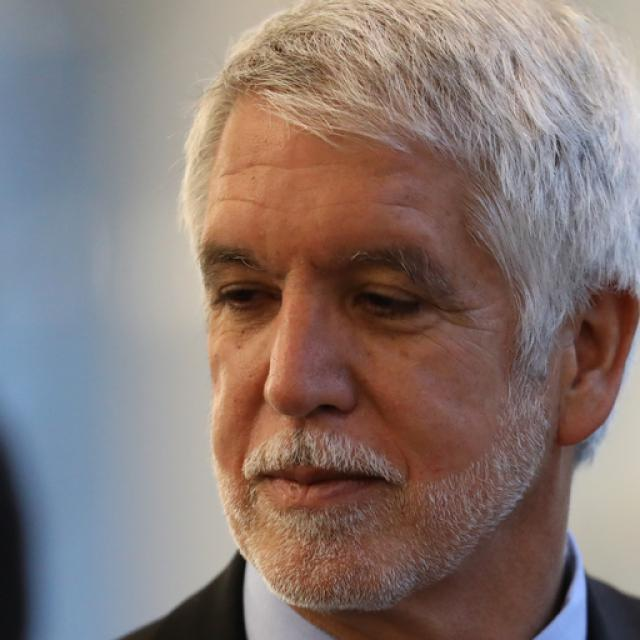sad: (202, 98, 546, 612)
